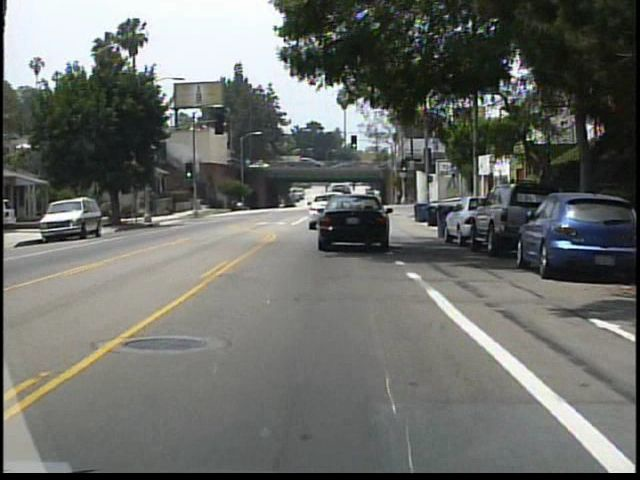person: (100, 199, 110, 226)
